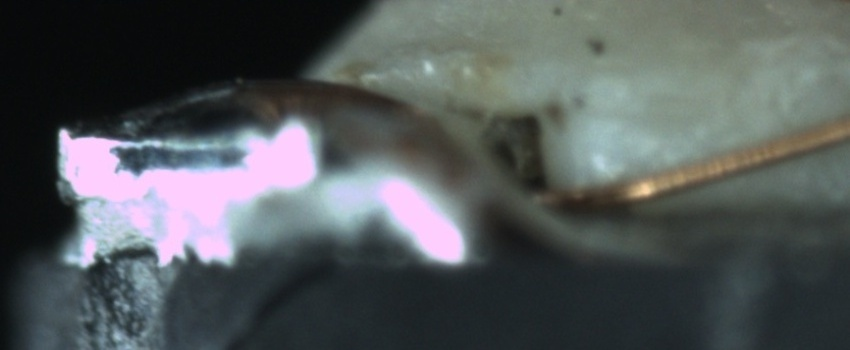DL: (576, 84, 718, 148)
